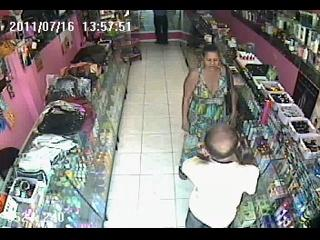Normal: (180, 123, 260, 228), (178, 44, 239, 180), (153, 10, 170, 45)
